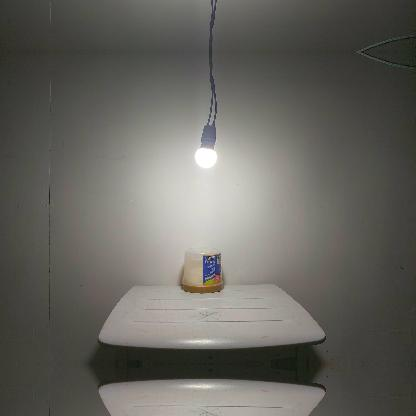Lady-s-Choice: (181, 246, 223, 292)
